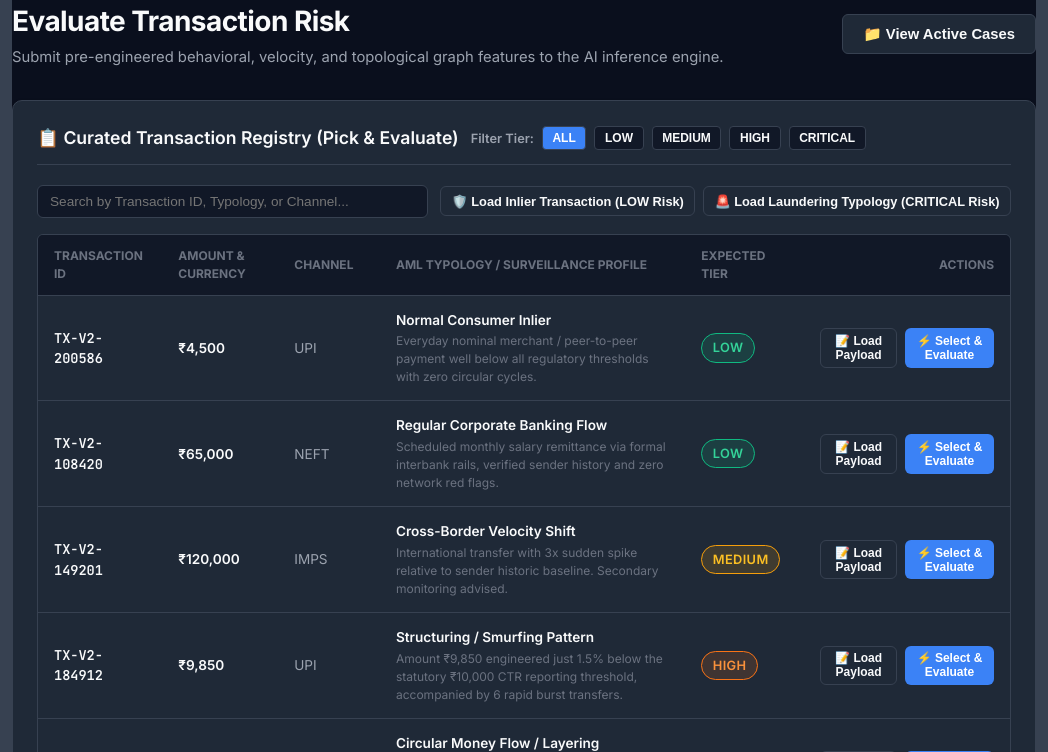
Scenario: AnalyzeTransaction Page Component › handles 400 Bad Request validation error gracefully
Click the button "🛡️ Load Inlier Transaction (LOW Risk)" at (568, 201), box [440,186,695,216]
(page scrolled)
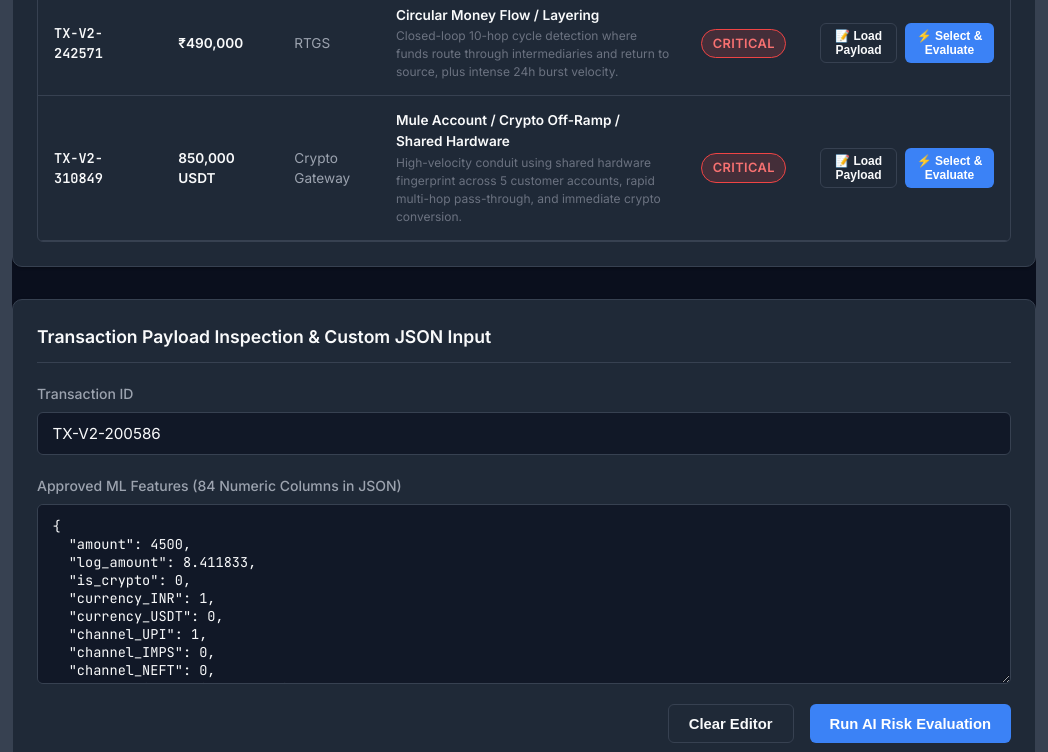
Click the button "Run AI Risk Evaluation" at (910, 724), box [810,704,1011,743]
(page scrolled)
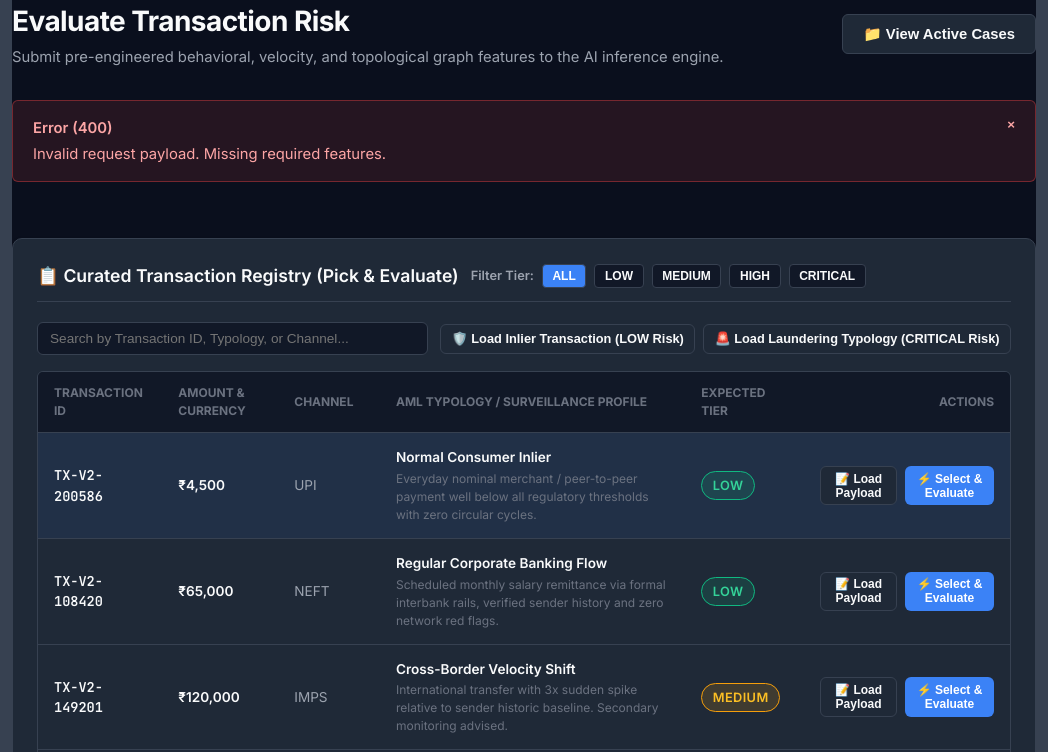
Check: the text "Invalid request payload. Missing required features." is shown, box [33,145,386,163]
